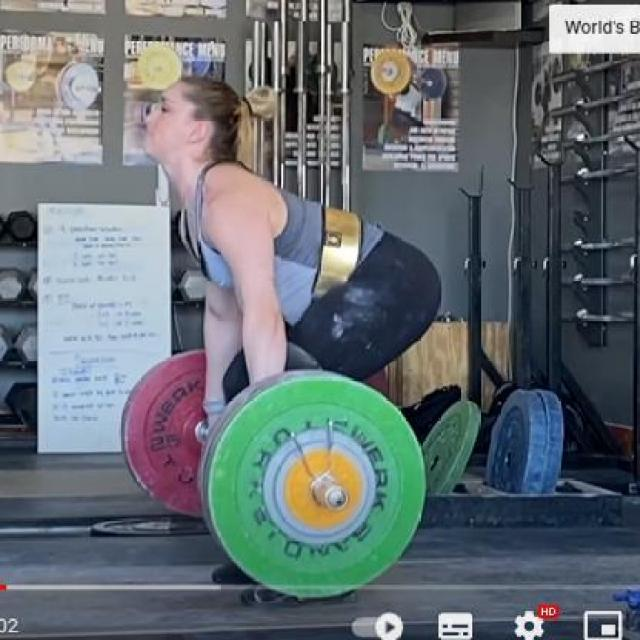Barbell: (320, 482, 354, 513)
